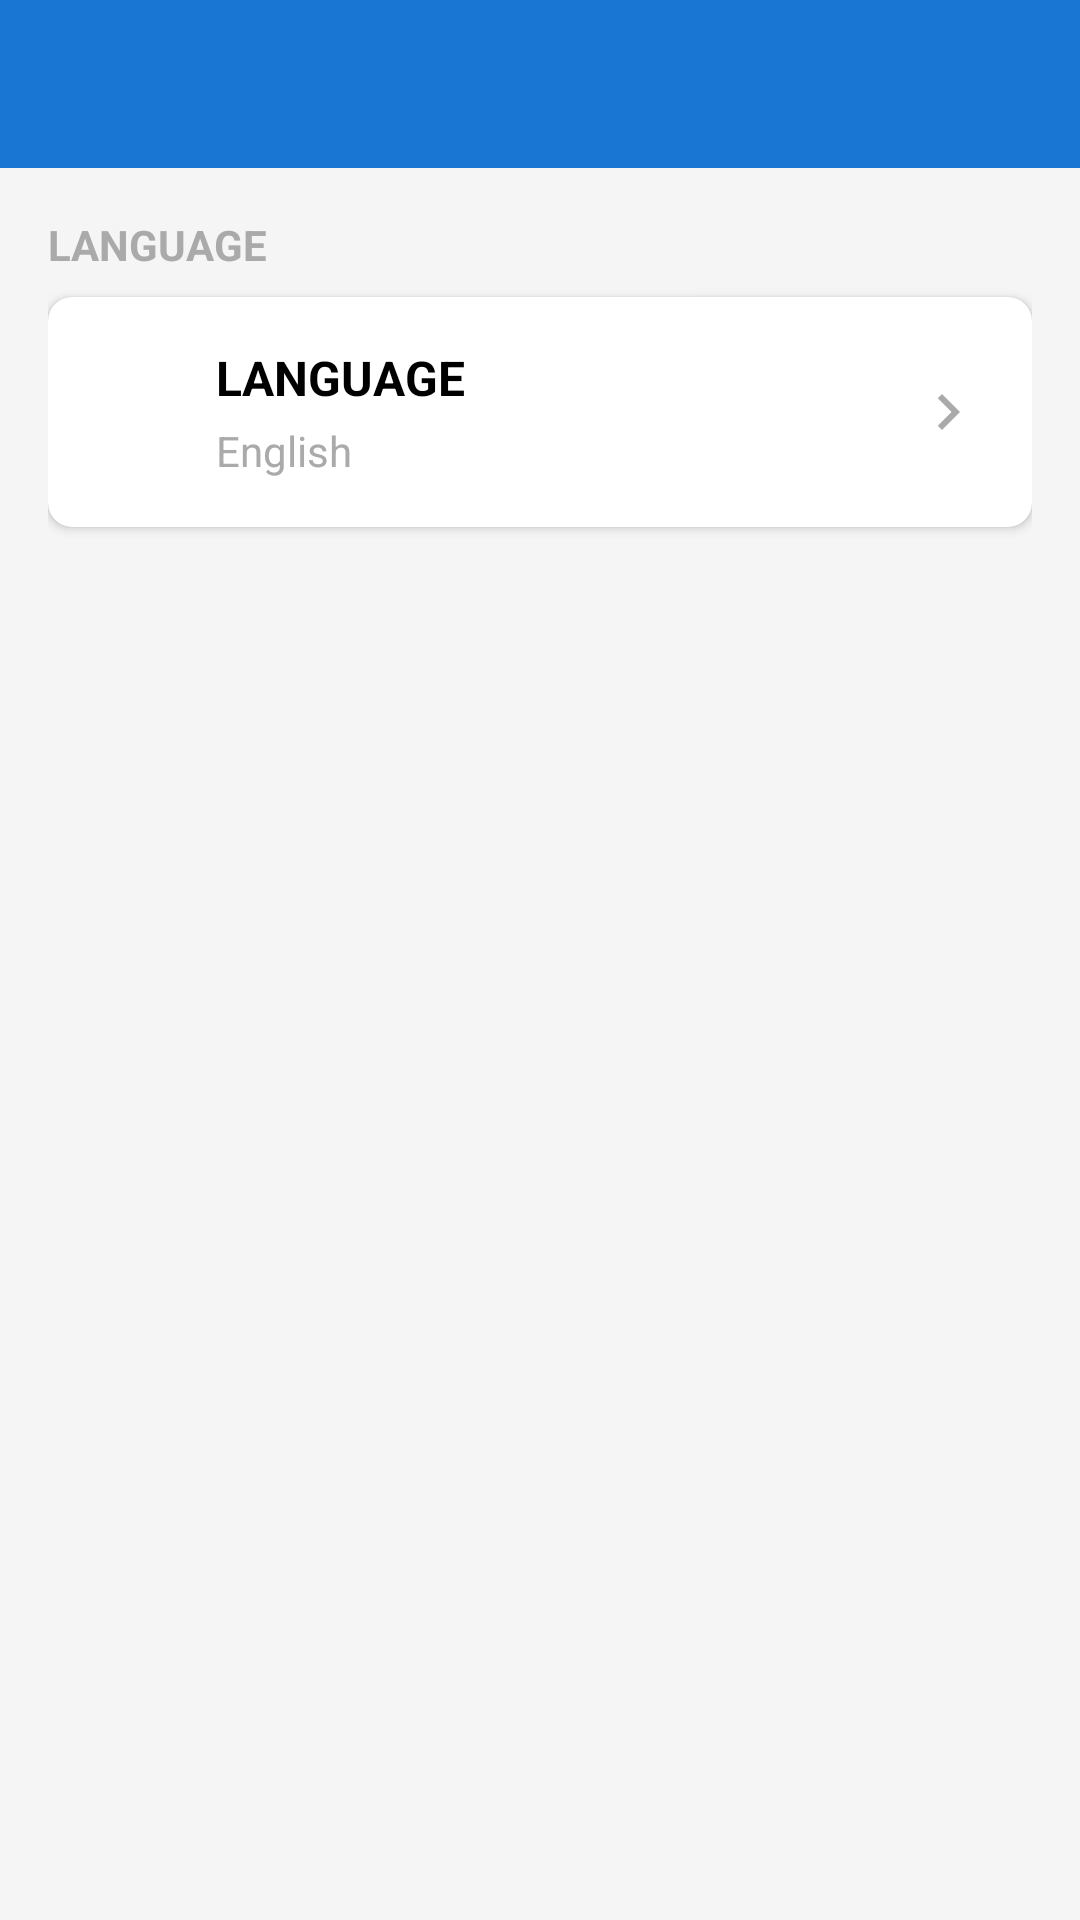

Icon click points for this 1080w x 1920h phone screenshot, format (x,y):
chevron right: (949,412)
